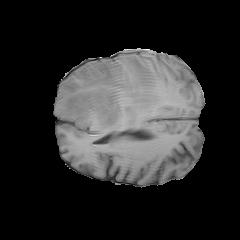glioma: (62, 56, 164, 130)
